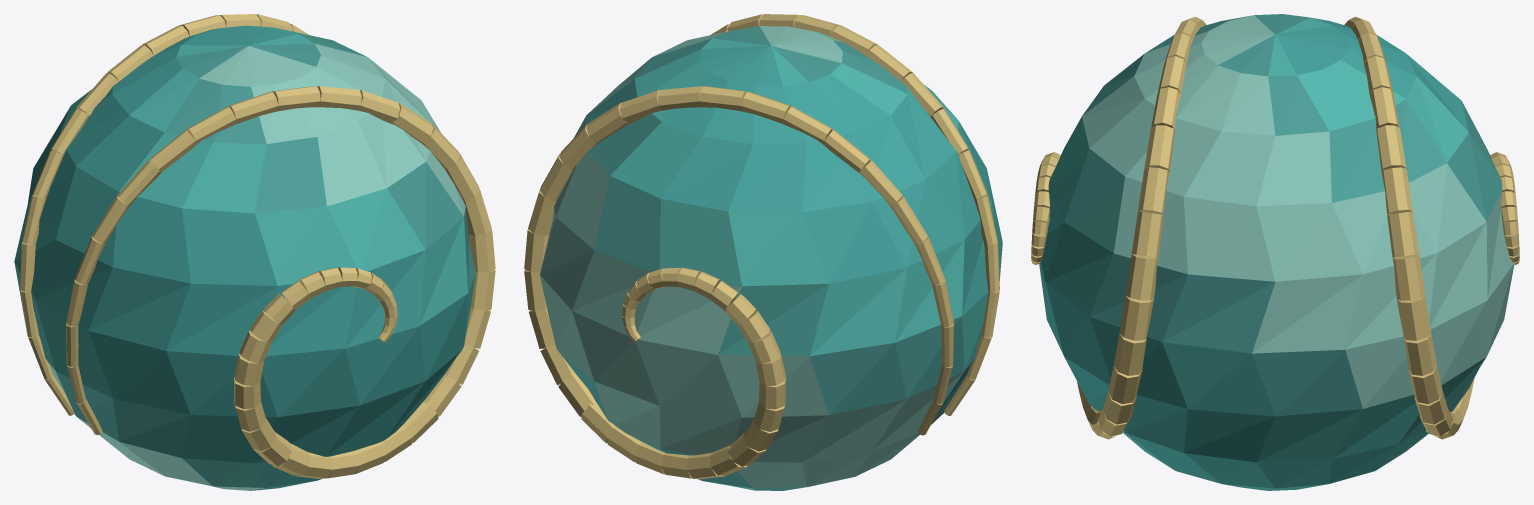
The model's file is marine-loot-7.glb.
3 views of the same model, side by side, from view 1: azimuth 30°, elevation 25°; view 2: azimuth 150°, elevation 25°; view 3: azimuth 270°, elevation 25° (orthographic). The views are drawn at different scales.
Visible parts, largest first — view 1: marine-loot-7; view 2: marine-loot-7; view 3: marine-loot-7.
Boxes of the visible parts, x1,y1,x2,y2 form: marine-loot-7: (14, 14, 495, 490); marine-loot-7: (524, 14, 1002, 490); marine-loot-7: (1031, 14, 1519, 490).
Bounding box in the file's own units: 1.24 × 1.24 × 1.26.
